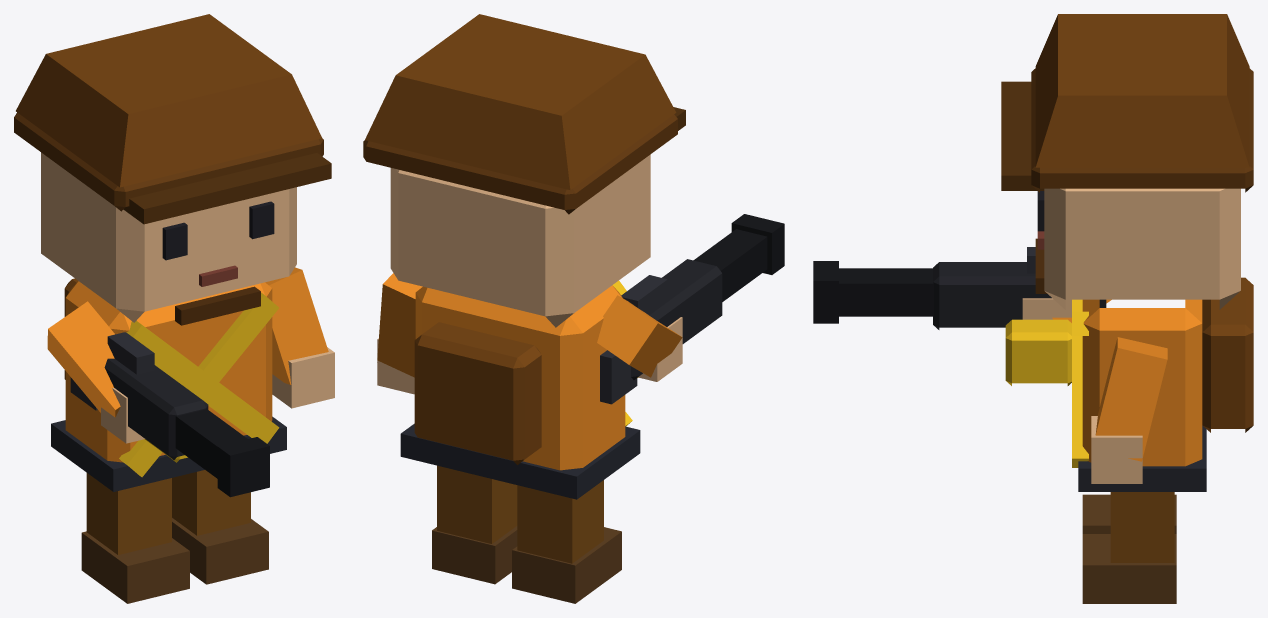
The model's file is machine_gunner.glb.
3 renders of one model, left to right at view 1: azimuth 30°, elevation 25°; view 2: azimuth 150°, elevation 25°; view 3: azimuth 270°, elevation 25°, orthographic. The views are drawn at different scales.
Visible parts, largest first — view 1: machine_gunner_mesh; view 2: machine_gunner_mesh; view 3: machine_gunner_mesh.
Part boxes in pixels (x1=…): machine_gunner_mesh: x1=14, y1=14, x2=334, y2=603; machine_gunner_mesh: x1=363, y1=14, x2=784, y2=603; machine_gunner_mesh: x1=813, y1=14, x2=1253, y2=603.
Size of the model in its own units: 0.7321 by 1.3 by 1.01.
Materials: 1 (1 with a texture image).
